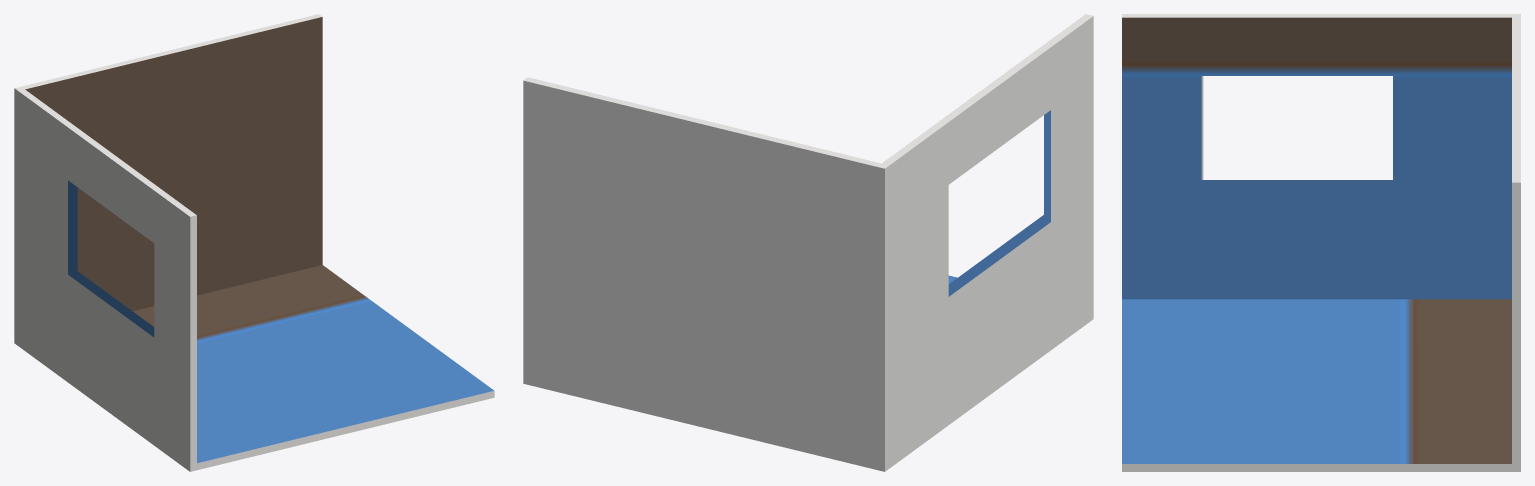
Rendered from Childroom2_base.fbx.
3 renders of one model, left to right at view 1: azimuth 30°, elevation 25°; view 2: azimuth 150°, elevation 25°; view 3: azimuth 270°, elevation 25°, orthographic. The views are drawn at different scales.
Visible parts, largest first — view 1: Childroom2_base; view 2: Childroom2_base; view 3: Childroom2_base.
Boxes of the visible parts, x1,y1,x2,y2 form: Childroom2_base: [14, 14, 494, 471]; Childroom2_base: [523, 14, 1093, 471]; Childroom2_base: [1122, 14, 1520, 471].
Size of the model in its own units: 500 by 401 by 500.
